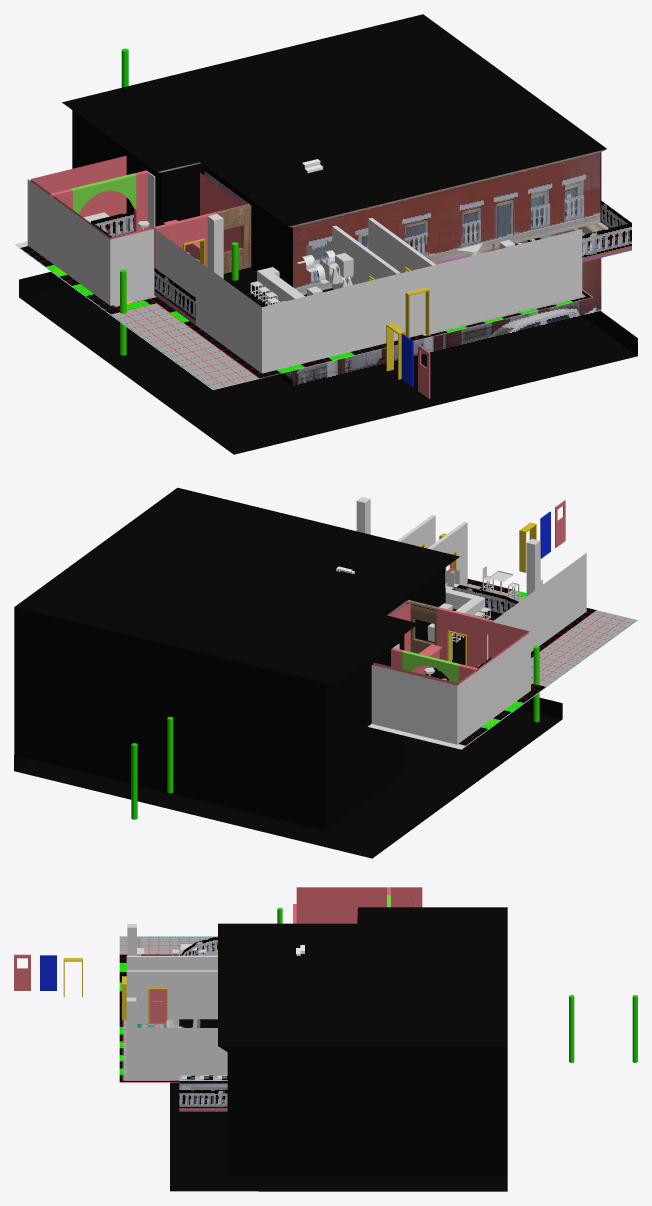
The model's file is hotel_interiors.glb.
The picture shows the model from 3 angles, top to bottom: view 1: azimuth 30°, elevation 25°; view 2: azimuth 150°, elevation 25°; view 3: azimuth 270°, elevation 25°; orthographic projection. The views are drawn at different scales.
Parts seen in each view (by area): view 1: Hotel_example, Main_floor_Wall, Hotel_2nd_floor, bar_wall_divides_bar.002, thick_wall_main_right_joined-col.001, thick_wall_main_right_joined-col.002, bar_wall_divides_bar, bar_back_arch, pillar_1.001, bar, Main_floor_non_blueprint, thick_wall_Main_right_top-col.002 (+1 smaller); view 2: Hotel_example, Main_floor_Wall, Hotel_2nd_floor, bar_wall_divides_bar.002, thick_wall_main_right_joined-col.002, bar_wall_divides_bar, bar, bar_back_arch, pillar_1, thick_wall_main_right_joined-col.001, Main_floor_non_blueprint, pillar_1.003; view 3: Hotel_example, Main_floor_Wall, thick_wall_main_right_joined-col.001, bar_wall_divides_bar.002, Hotel_2nd_floor, thick_wall_main_right_joined-col.002, thick_wall_Main_2-col.001, thick_wall_Main_right_top-col.002, interior_door-col, interior_door_window_right-col.001, interior_door_window-col.001.
Part boxes in pixels (bbox=[...]): Hotel_example: bbox=[19, 14, 637, 454]; Main_floor_Wall: bbox=[27, 179, 582, 373]; Hotel_2nd_floor: bbox=[20, 246, 592, 389]; bar_wall_divides_bar.002: bbox=[30, 155, 243, 268]; thick_wall_main_right_joined-col.001: bbox=[368, 218, 436, 330]; thick_wall_main_right_joined-col.002: bbox=[332, 225, 400, 340]; bar_wall_divides_bar: bbox=[215, 204, 251, 273]; bar_back_arch: bbox=[71, 173, 136, 213]; pillar_1.001: bbox=[207, 214, 223, 278]; bar: bbox=[257, 267, 341, 302]; Main_floor_non_blueprint: bbox=[14, 241, 592, 389]; thick_wall_Main_right_top-col.002: bbox=[368, 218, 435, 285]; Hotel_example: bbox=[14, 487, 562, 858]; Main_floor_Wall: bbox=[371, 553, 586, 744]; Hotel_2nd_floor: bbox=[458, 579, 637, 745]; bar_wall_divides_bar.002: bbox=[373, 602, 529, 685]; thick_wall_main_right_joined-col.002: bbox=[428, 522, 467, 585]; bar_wall_divides_bar: bbox=[406, 600, 438, 653]; bar: bbox=[427, 589, 485, 641]; bar_back_arch: bbox=[402, 650, 460, 682]; pillar_1: bbox=[526, 538, 540, 595]; thick_wall_main_right_joined-col.001: bbox=[397, 515, 435, 548]; Main_floor_non_blueprint: bbox=[368, 620, 637, 749]; pillar_1.003: bbox=[356, 497, 370, 534]; Hotel_example: bbox=[170, 907, 637, 1191]; Main_floor_Wall: bbox=[126, 1028, 227, 1079]; thick_wall_main_right_joined-col.001: bbox=[126, 970, 217, 1023]; bar_wall_divides_bar.002: bbox=[293, 887, 422, 923]; Hotel_2nd_floor: bbox=[119, 936, 216, 1082]; thick_wall_main_right_joined-col.002: bbox=[126, 955, 217, 970]; thick_wall_Main_2-col.001: bbox=[167, 988, 217, 1023]; thick_wall_Main_right_top-col.002: bbox=[126, 970, 217, 987]; interior_door-col: bbox=[40, 955, 56, 990]; interior_door_window_right-col.001: bbox=[149, 989, 166, 1023]; interior_door_window-col.001: bbox=[14, 954, 30, 990].
Bounding box in the file's own units: 21.49 × 8.61 × 32.32.
24 materials, 8 textured.
